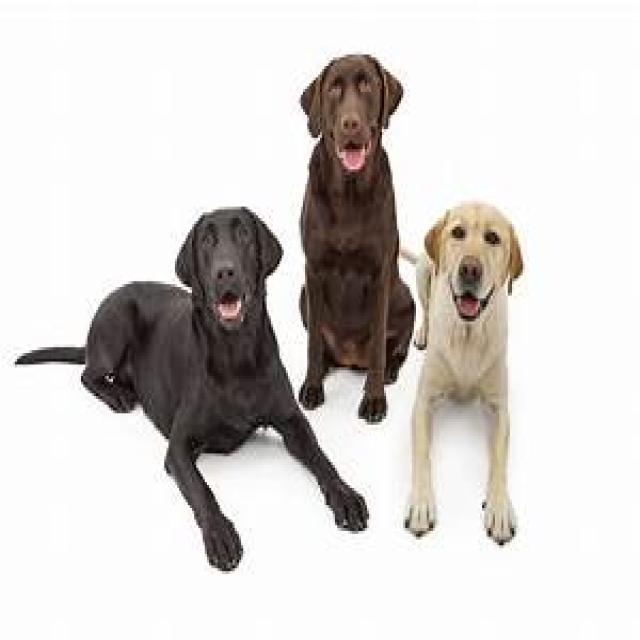dog: (16, 207, 369, 569), (299, 55, 415, 421), (406, 203, 522, 542)
